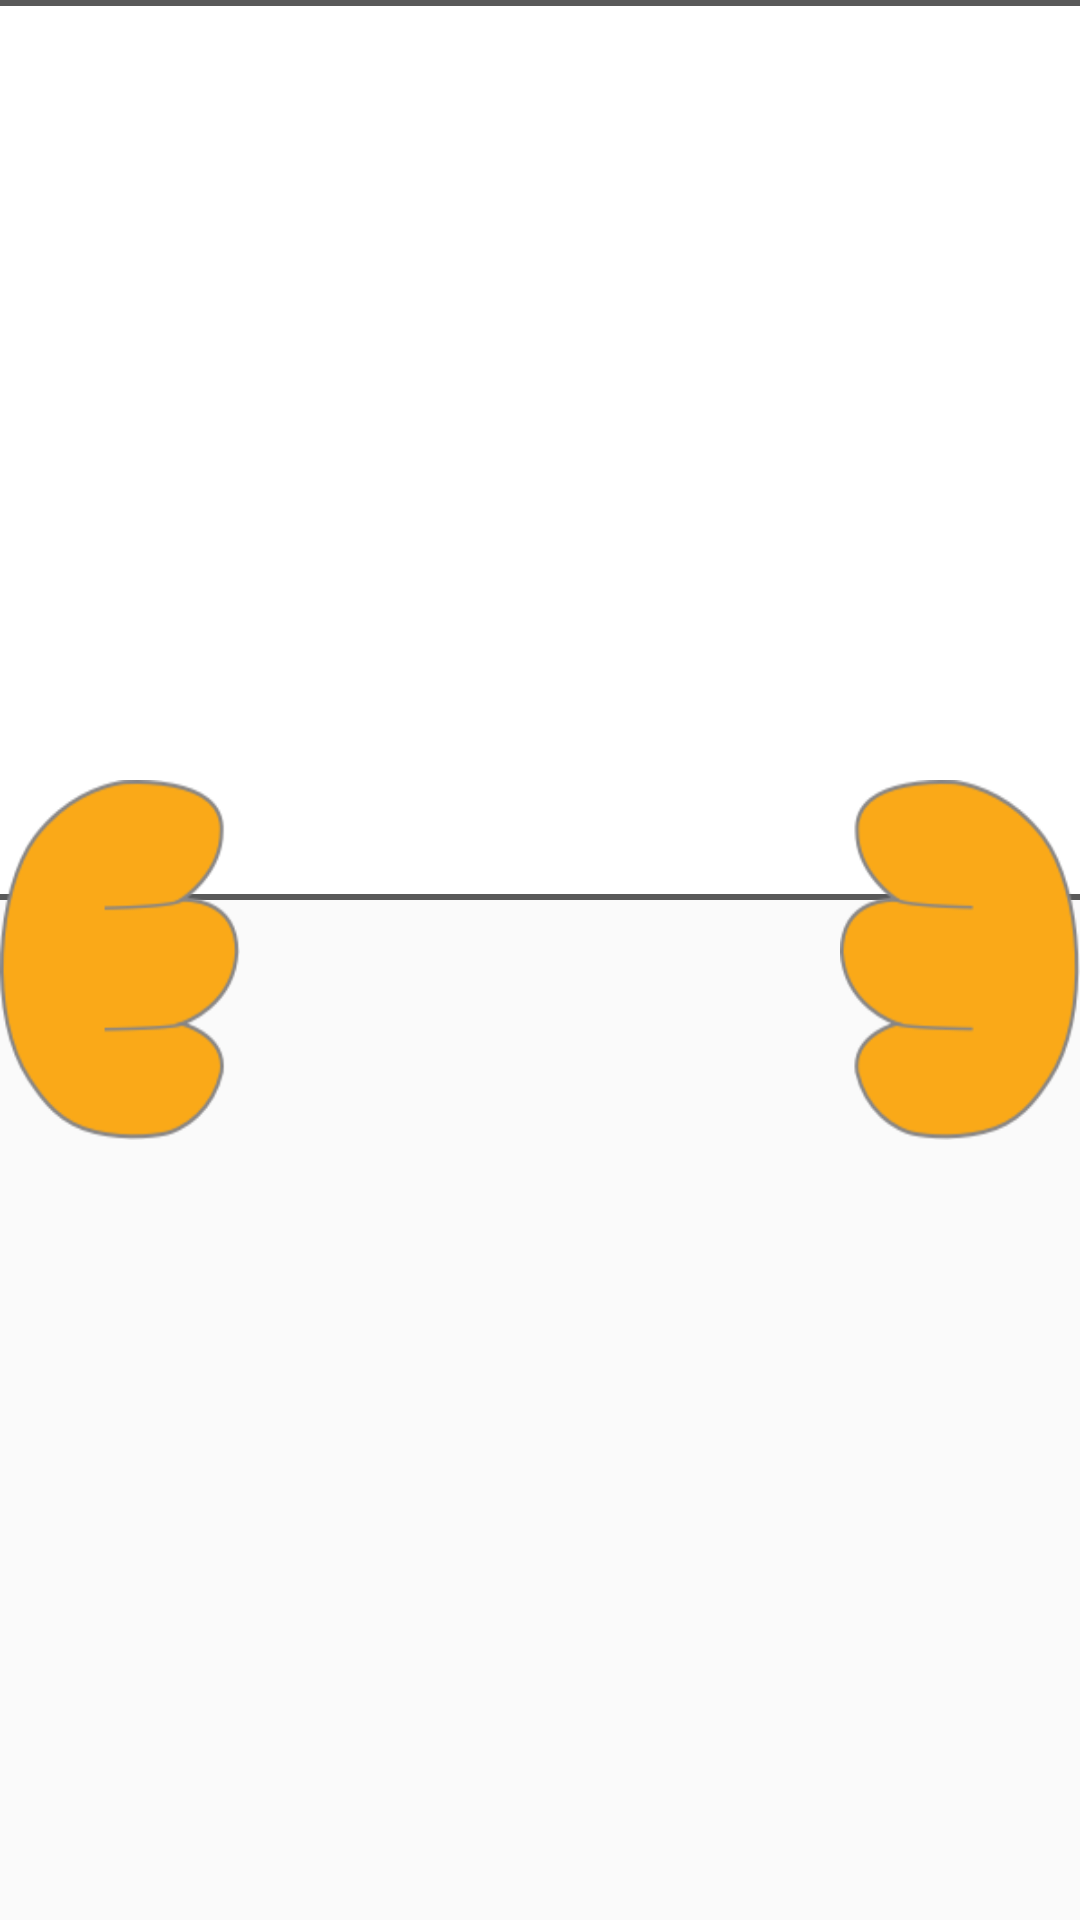

Screen size 1080x1920. Icon name, then its box in pixels as {"left": x1, "top": y1, "right": x2, "bottom": y2}:
left hand: {"left": 0, "top": 780, "right": 240, "bottom": 1140}
right hand: {"left": 840, "top": 780, "right": 1080, "bottom": 1140}
